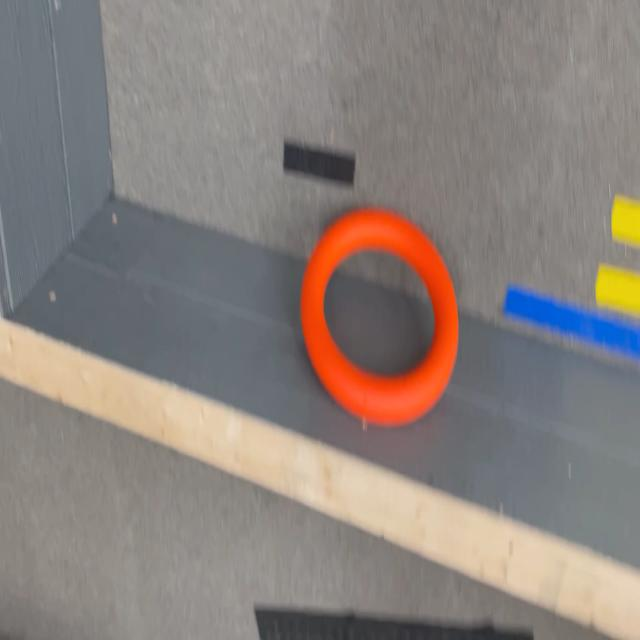note: (302, 210, 458, 424)
